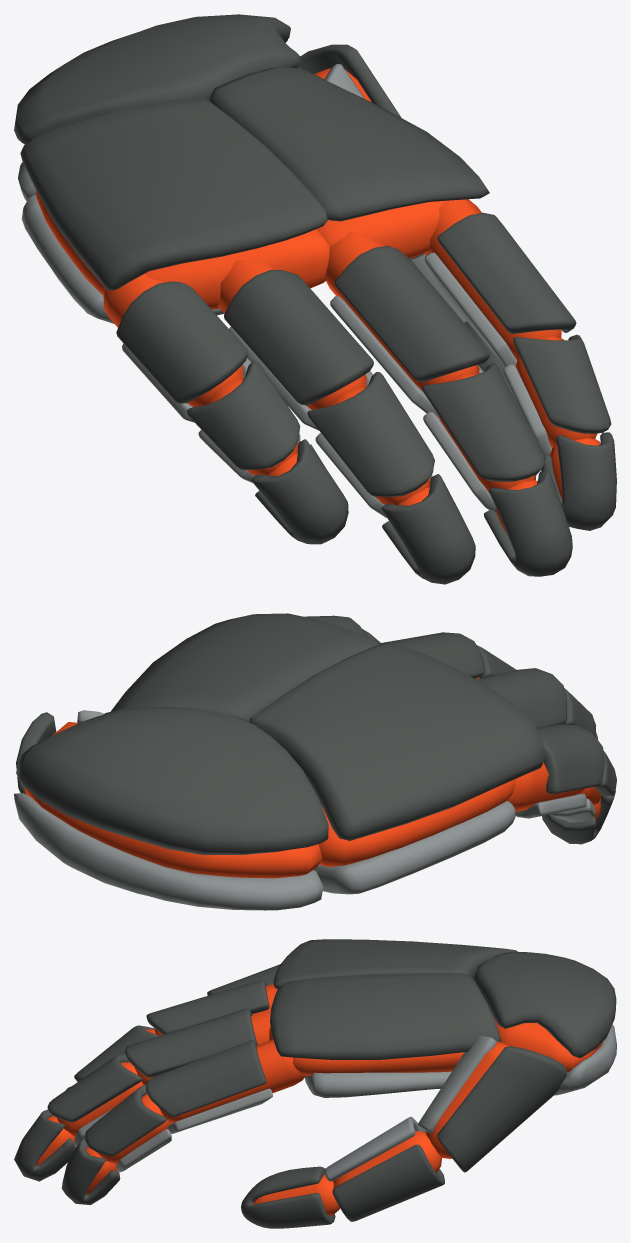
Rendered from xsens_RightHand.dae.
The picture shows the model from 3 angles, top to bottom: view 1: azimuth 30°, elevation 25°; view 2: azimuth 150°, elevation 25°; view 3: azimuth 270°, elevation 25°; orthographic projection. The views are drawn at different scales.
Parts seen in each view (by area): view 1: RightHand; view 2: RightHand; view 3: RightHand.
Part boxes in pixels (x1=…): RightHand: x1=14, y1=14, x2=616, y2=584; RightHand: x1=14, y1=613, x2=616, y2=910; RightHand: x1=14, y1=939, x2=616, y2=1228.
Size of the model in its own units: 0.1026 by 0.1736 by 0.0653.
